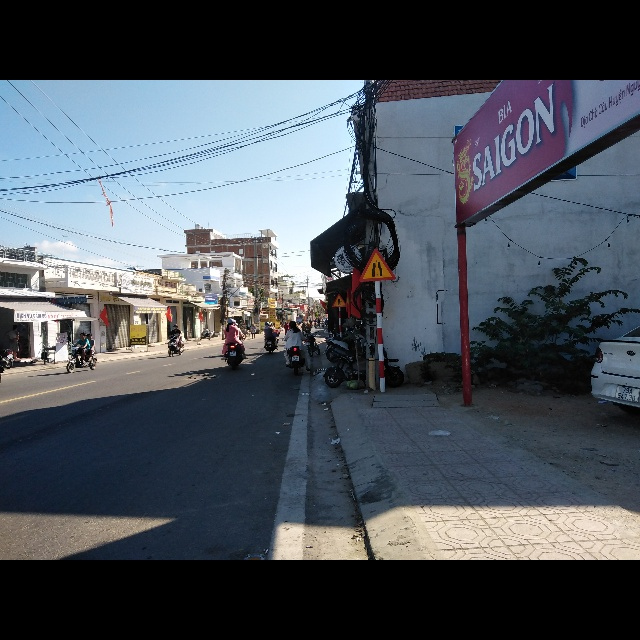Đường bị hẹp cả hai bên: (356, 249, 397, 282)
